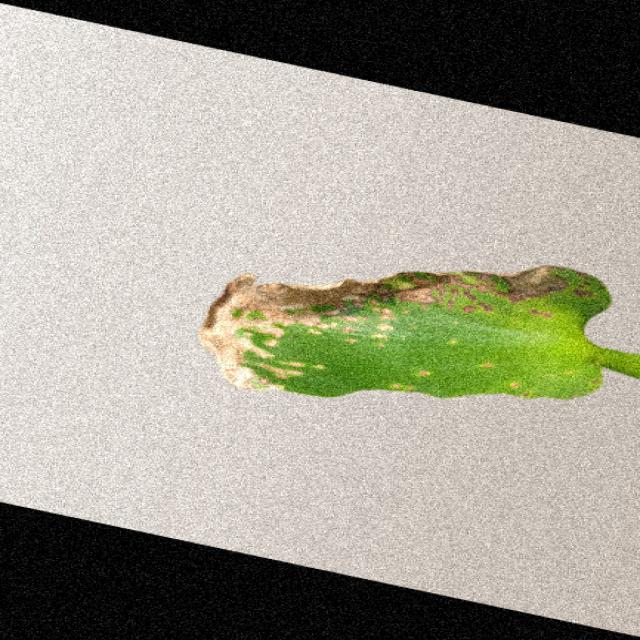daun berpenyakit bercak: (200, 266, 638, 398)
